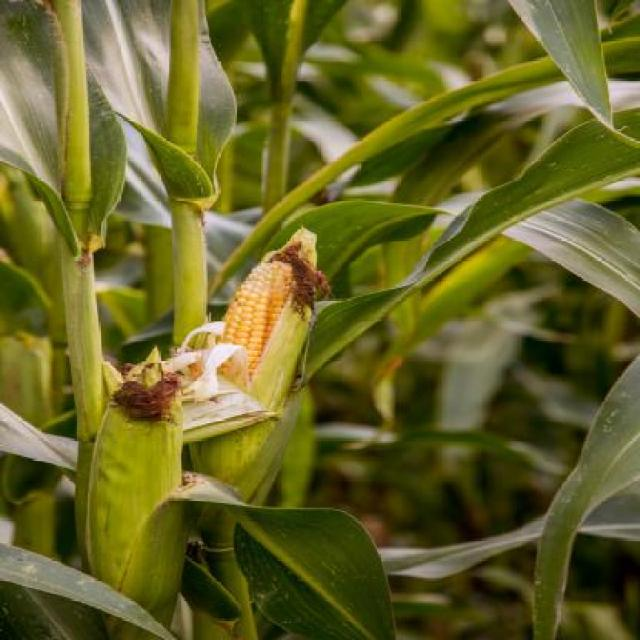Corn: (200, 225, 474, 508), (45, 318, 263, 632)
